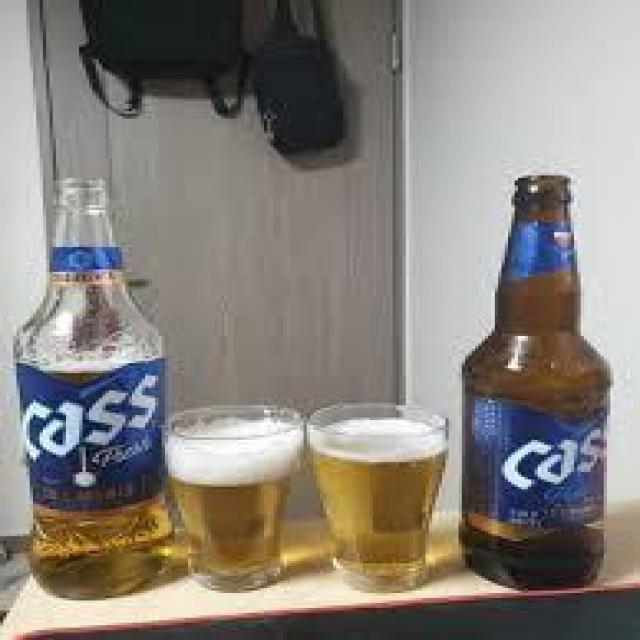beer-bottle: (446, 169, 626, 597), (15, 172, 180, 606)
